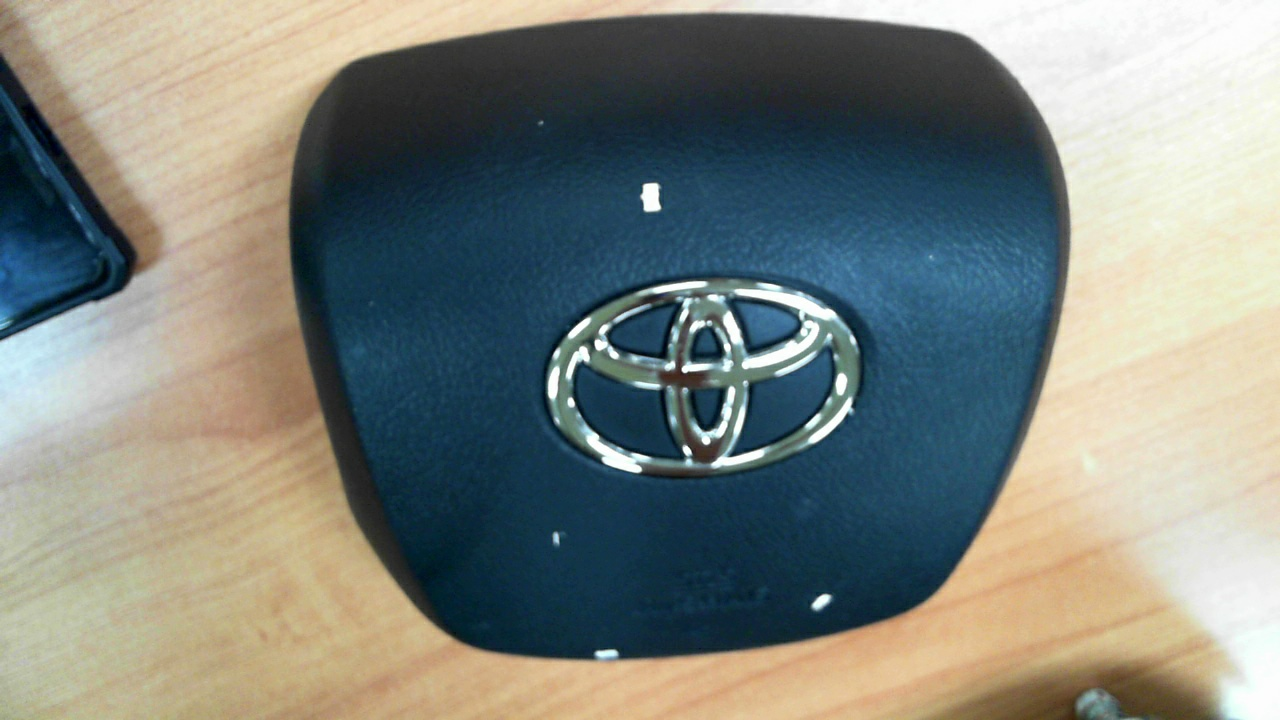Airbag: (291, 13, 1071, 664)
Mark: (639, 182, 664, 213), (810, 593, 832, 611), (594, 648, 618, 658), (552, 531, 561, 546), (537, 120, 544, 127), (929, 255, 932, 258)
